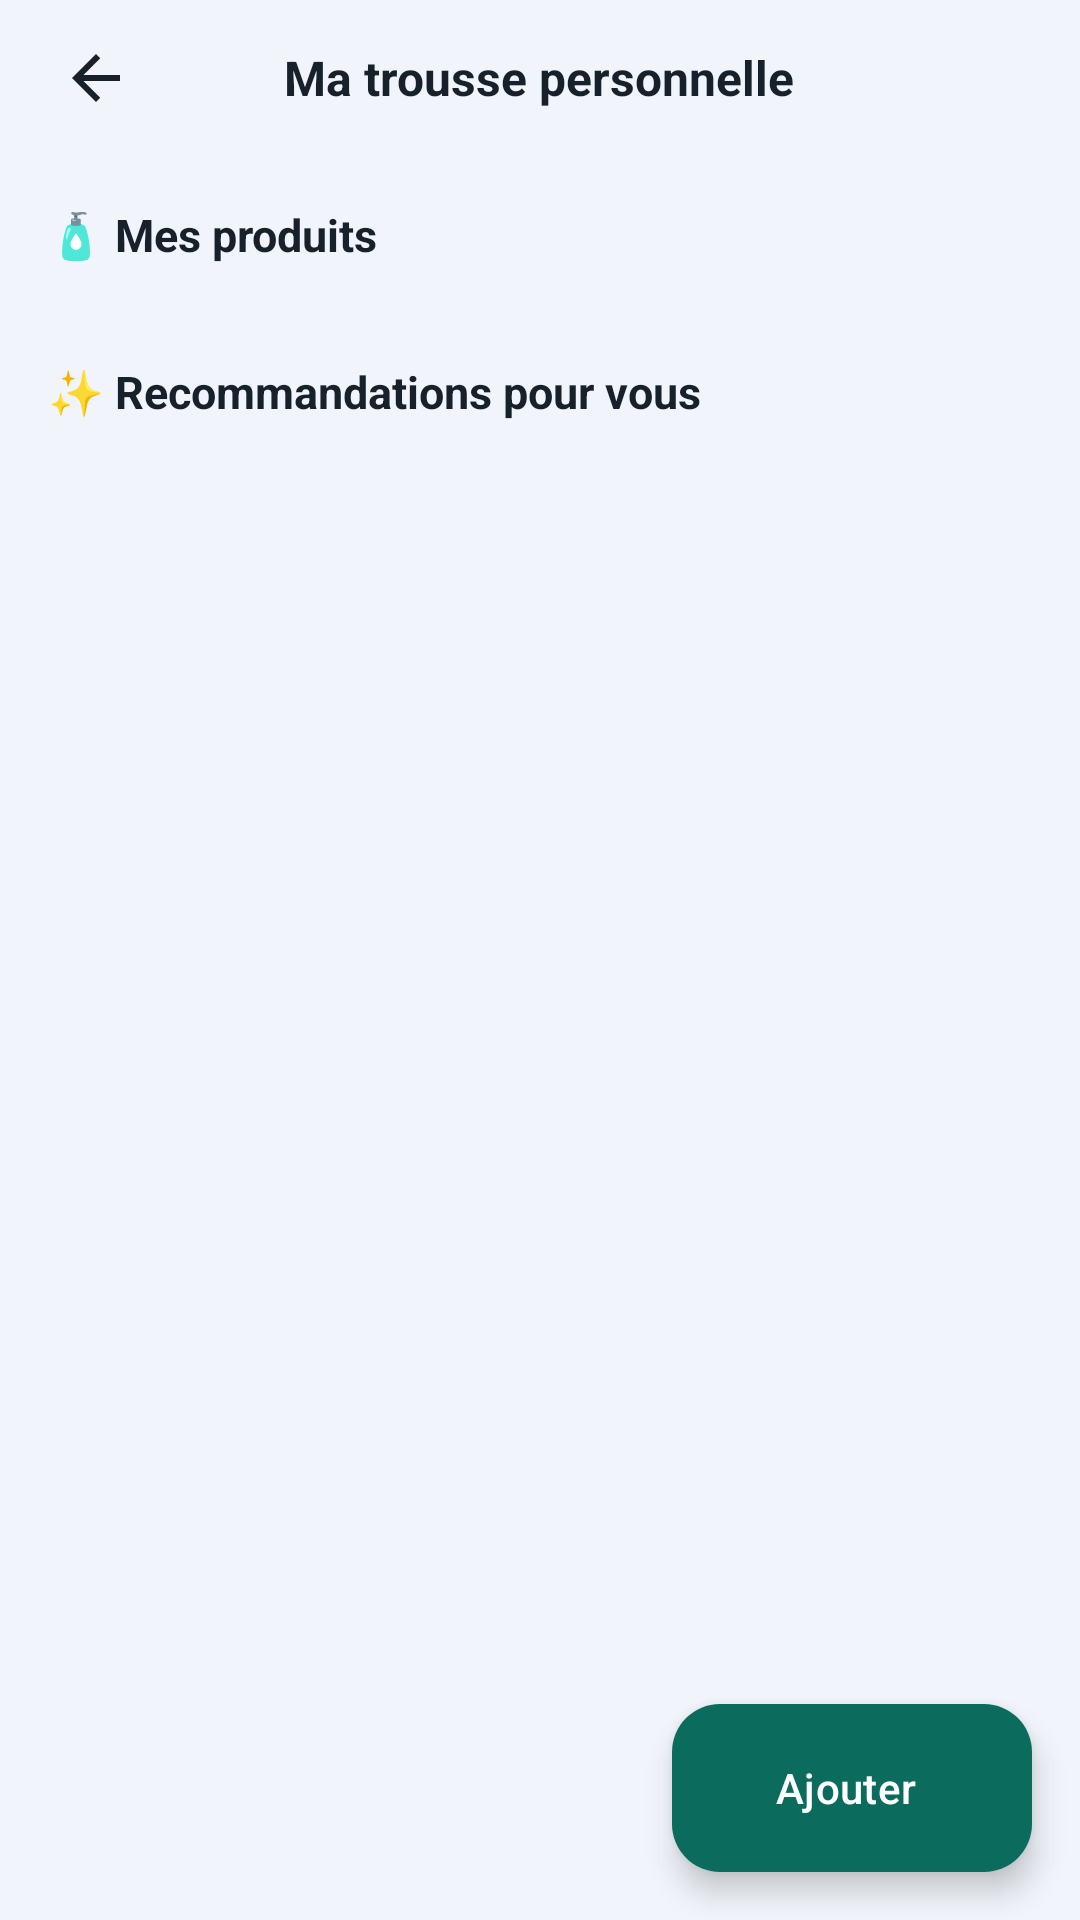

Named icons in this screenshot (1080x1920) and their centers, (x,y):
Retour: (96,78)
